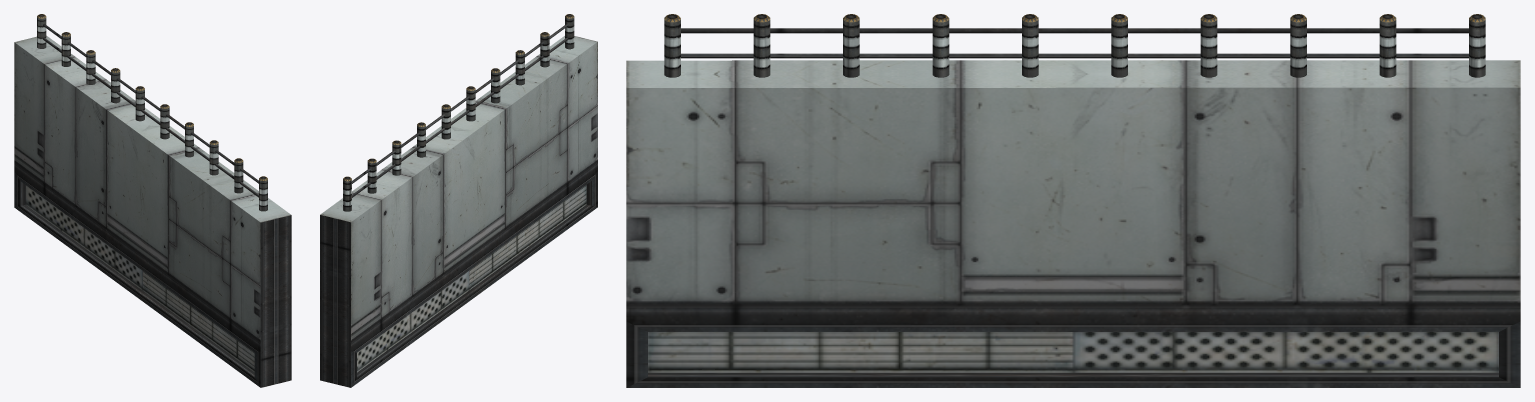
File: muro-torre1.fbx
3 renders of one model, left to right at view 1: azimuth 30°, elevation 25°; view 2: azimuth 150°, elevation 25°; view 3: azimuth 270°, elevation 25°, orthographic. The views are drawn at different scales.
Visible parts, largest first — view 1: Cylinder.001, Cylinder.002, Cylinder.003; view 2: Cylinder.001, Cylinder.002, Cylinder.003; view 3: Cylinder.001, Cylinder.002, Cylinder.003.
Part boxes in pixels (left/top/right/bottom): Cylinder.001: left=14, top=35, right=291, bottom=387; Cylinder.002: left=37, top=14, right=267, bottom=211; Cylinder.003: left=43, top=23, right=258, bottom=197; Cylinder.001: left=320, top=36, right=597, bottom=387; Cylinder.002: left=343, top=14, right=574, bottom=211; Cylinder.003: left=352, top=24, right=568, bottom=197; Cylinder.001: left=626, top=60, right=1520, bottom=387; Cylinder.002: left=664, top=14, right=1485, bottom=77; Cylinder.003: left=681, top=28, right=1468, bottom=58.
Bounding box in the file's own units: 0.5796 × 3.53 × 8.
